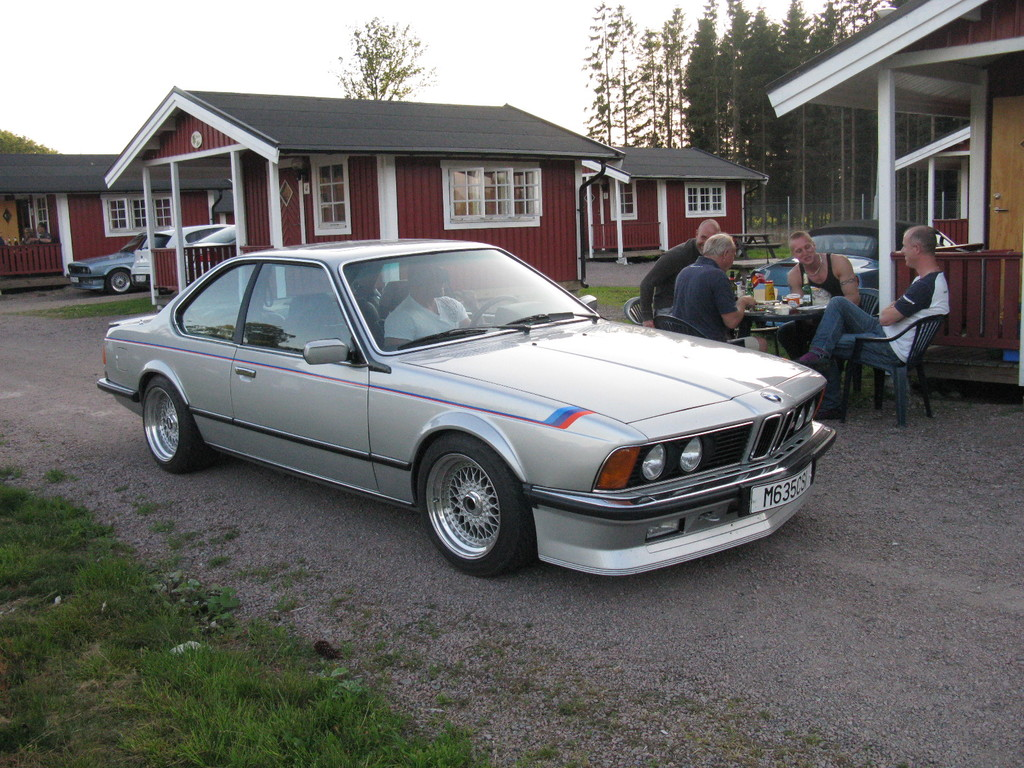Car: (88, 239, 825, 588), (755, 218, 967, 327), (129, 224, 229, 288), (67, 241, 138, 295), (185, 225, 236, 286)
